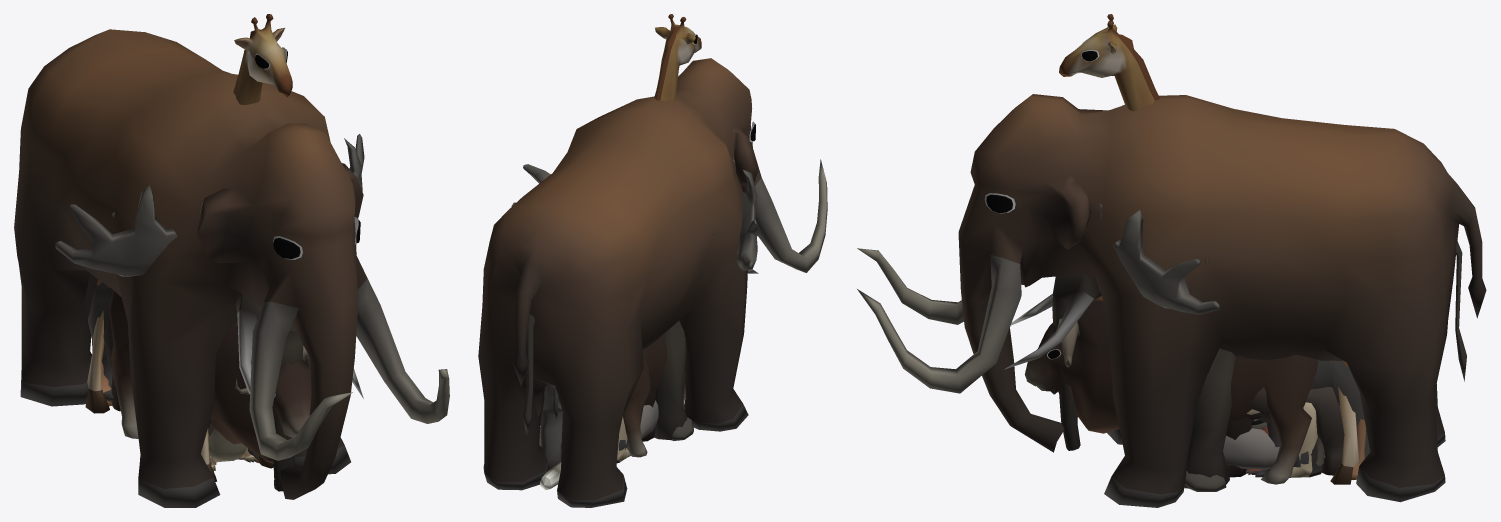
3 views of the same model, side by side, from view 1: azimuth 30°, elevation 25°; view 2: azimuth 150°, elevation 25°; view 3: azimuth 270°, elevation 25° (orthographic). The views are drawn at different scales.
Parts seen in each view (by area): view 1: base.078, base.068, base.082, base.059, base.058, base.065, base.081, base.026; view 2: base.078, base.058, base.068, base.059, base.082, base.065, base.079; view 3: base.078, base.068, base.058, base.059, base.082, base.026, base.079, base.065, base.087.
Part boxes in pixels (x1,y1,x2,y2): base.078: [14, 29, 449, 507]; base.068: [109, 290, 311, 463]; base.082: [55, 134, 364, 465]; base.059: [85, 14, 292, 481]; base.058: [84, 212, 363, 491]; base.065: [88, 282, 112, 387]; base.081: [208, 429, 246, 462]; base.026: [103, 316, 120, 411]; base.078: [478, 58, 827, 507]; base.058: [523, 232, 758, 440]; base.068: [623, 335, 685, 457]; base.059: [539, 14, 701, 446]; base.082: [511, 158, 758, 270]; base.065: [540, 384, 562, 468]; base.079: [640, 400, 693, 440]; base.078: [857, 94, 1486, 507]; base.068: [1024, 300, 1317, 484]; base.058: [1004, 241, 1466, 488]; base.059: [1059, 14, 1359, 484]; base.082: [1098, 203, 1324, 465]; base.026: [1251, 387, 1344, 475]; base.079: [1184, 428, 1340, 491]; base.065: [1310, 360, 1370, 458]; base.087: [1247, 402, 1317, 477].
Size of the model in its own units: 3.32 by 5 by 6.42.
